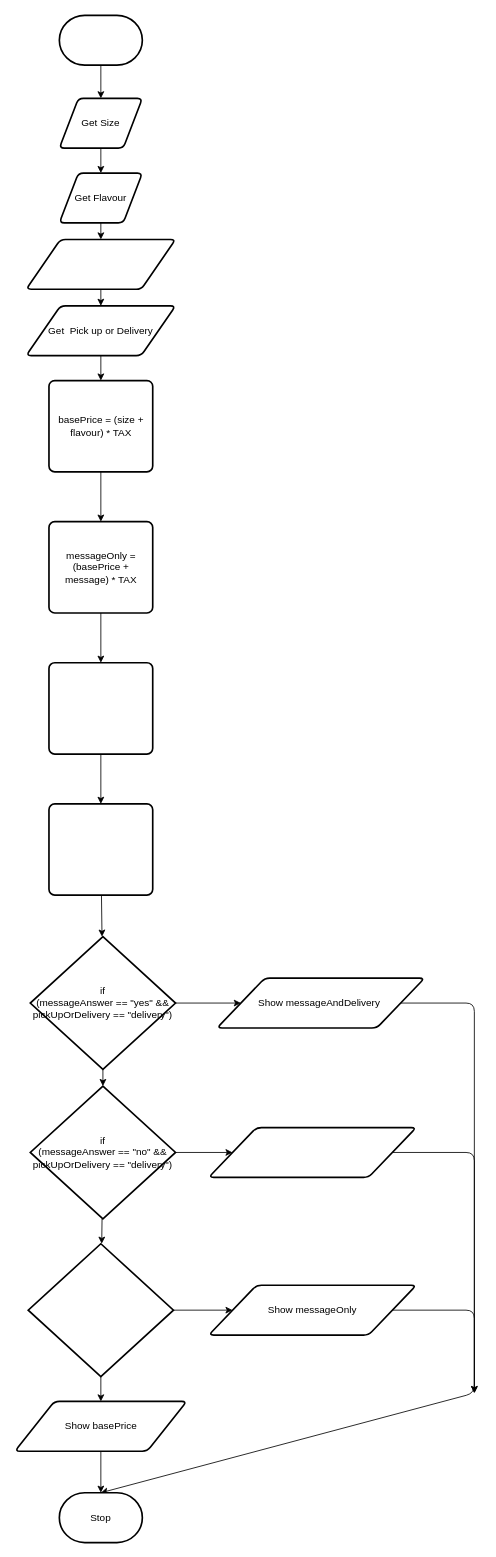
Some shapes in this 496 by 1557 pixel diagram are drawn without their labels. The box of each missing label's shape, as (x1, y1, x2, y2) in pixels:
deliveryOnly = (basePrice + delivery) * TAX: (48, 662, 153, 754)
Get Message (yes or no): (25, 238, 176, 290)
if (messageAnswer == "yes" && pickUpOrDelivery == "pick"): (27, 1243, 174, 1377)
messageAndDelivery = (basePrice + message + delivery) * TAX: (48, 803, 153, 896)
Show deliveryOnly: (208, 1126, 417, 1178)
Start: (58, 14, 143, 66)
